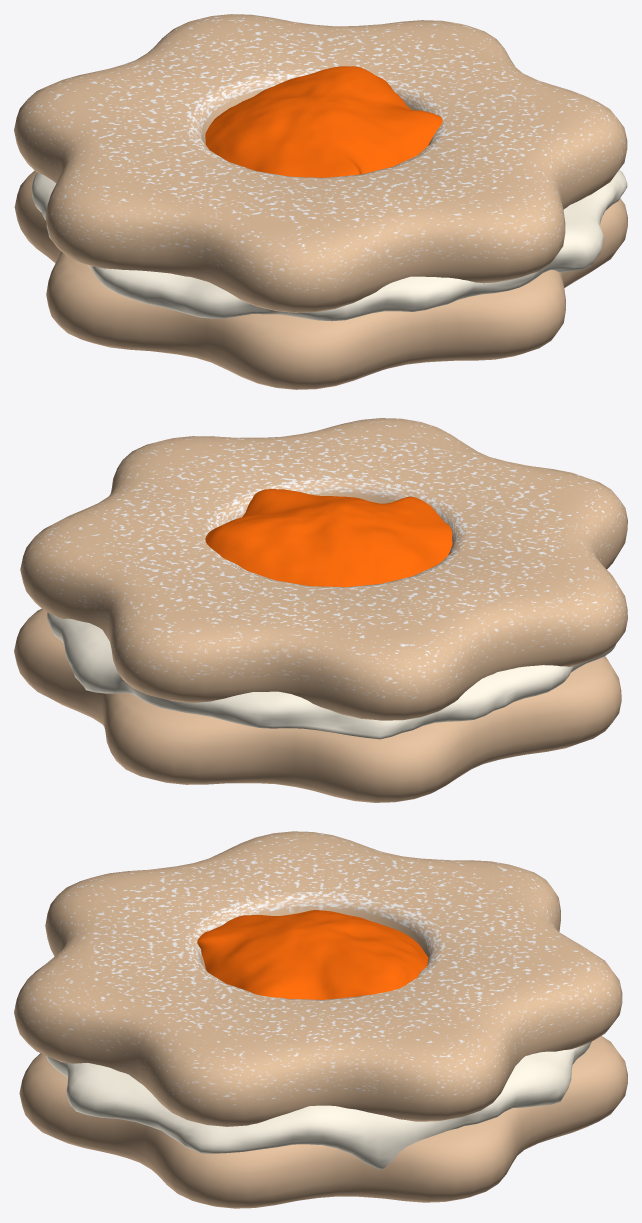
The model's file is gal-b-cookie-5379.glb.
3 views of the same model, one above another, from view 1: azimuth 30°, elevation 25°; view 2: azimuth 150°, elevation 25°; view 3: azimuth 270°, elevation 25° (orthographic).
Visible parts, largest first — view 1: Jam_Ring_Cookie; view 2: Jam_Ring_Cookie; view 3: Jam_Ring_Cookie.
Part boxes in pixels (box(x1,y1,x2,y2)): Jam_Ring_Cookie: box(14, 14, 627, 389); Jam_Ring_Cookie: box(14, 418, 627, 802); Jam_Ring_Cookie: box(14, 831, 627, 1208).
Size of the model in its own units: 0.07 by 0.0217 by 0.0706.
Materials: 7 (4 with a texture image).
